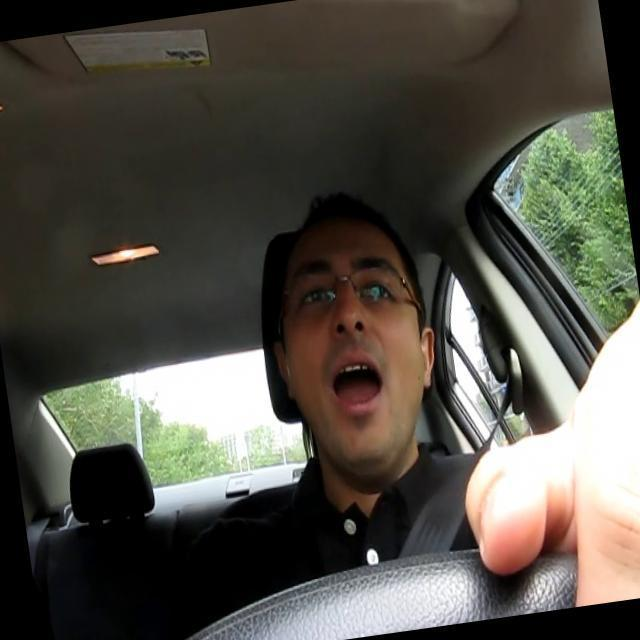open-mouth: (328, 352, 386, 414)
